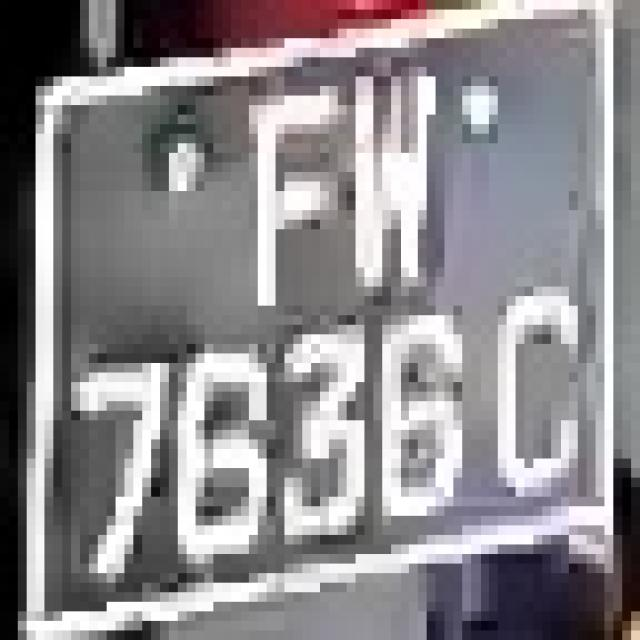3: (258, 325, 382, 573)
6: (373, 296, 489, 525), (178, 315, 266, 583)
7: (62, 344, 169, 611)
C: (480, 267, 587, 516)
F: (231, 67, 338, 325)
W: (320, 48, 462, 296)
